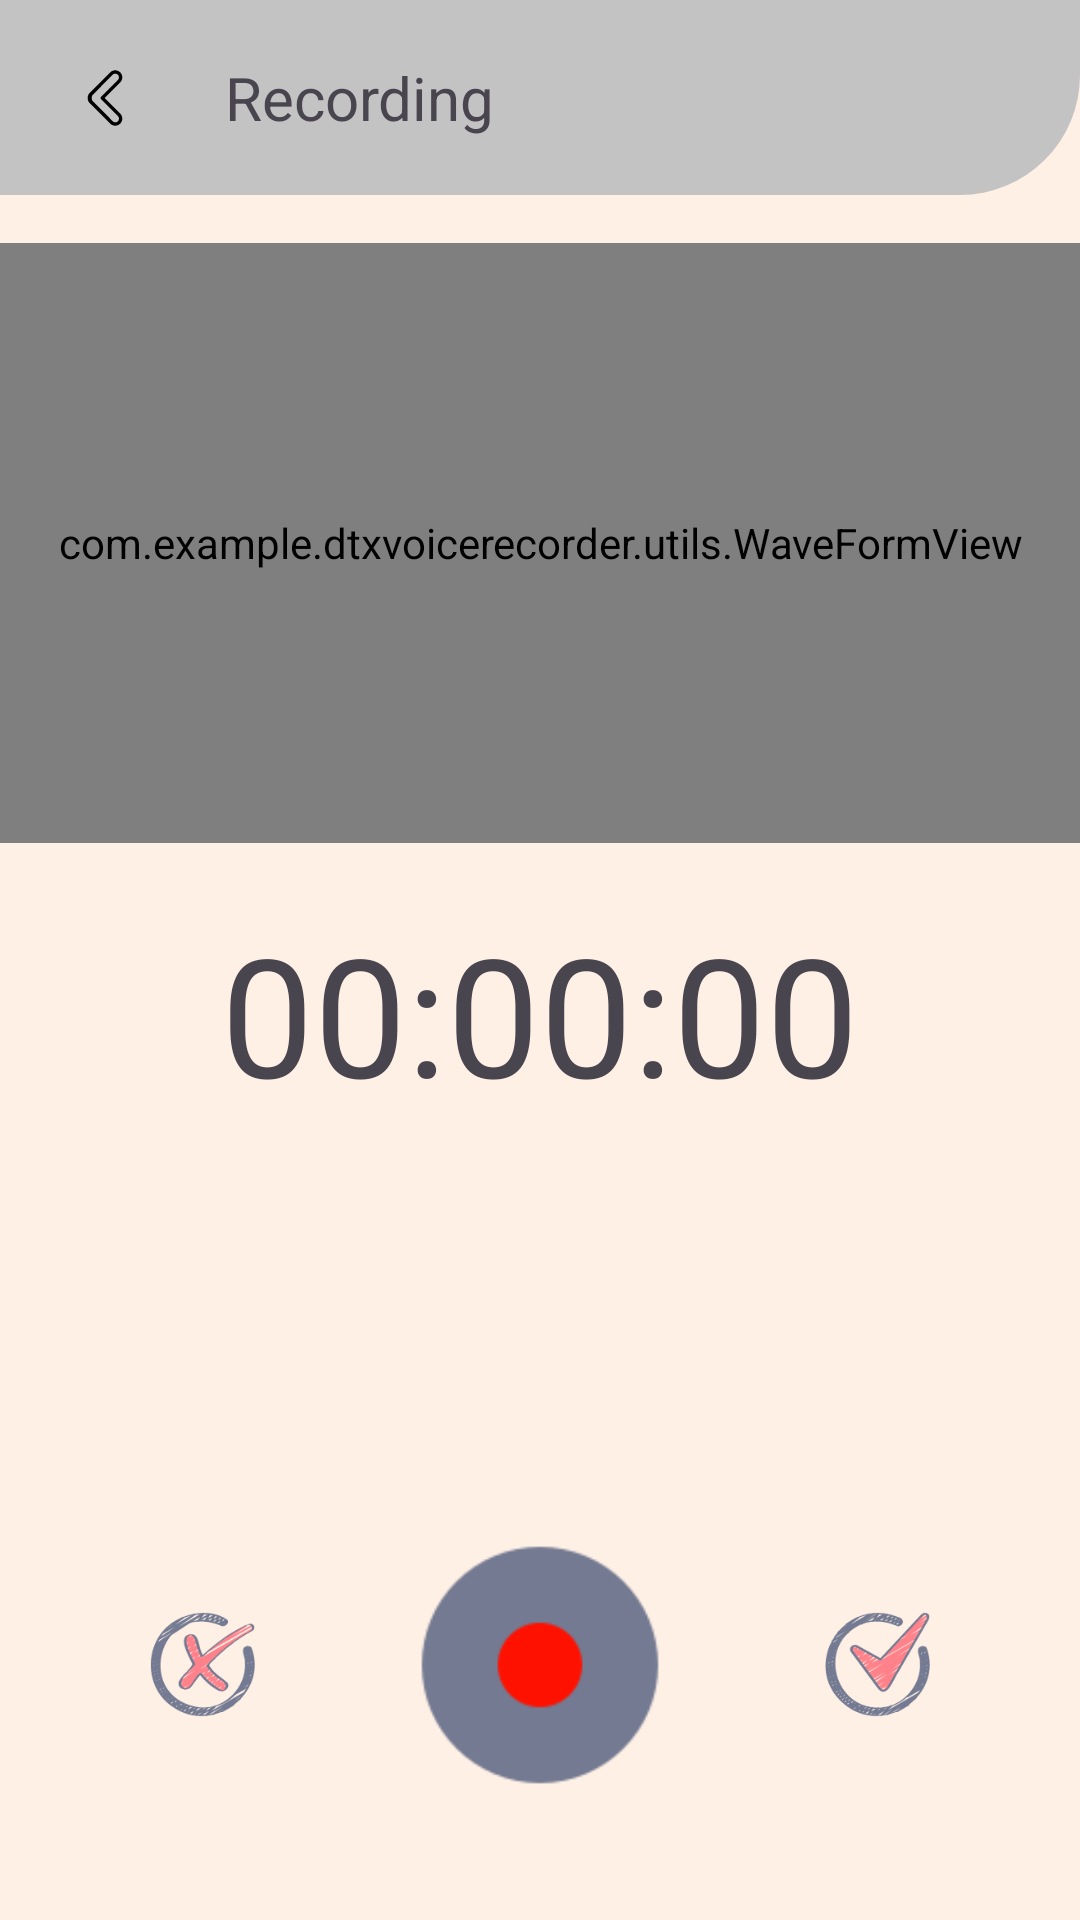

Icons on this 1080px x 1920px Android screen, each with its box as (x1, y1, x2, y2):
back: (87, 70, 123, 126)
cancel: (151, 1613, 255, 1716)
record: (421, 1546, 659, 1784)
save: (825, 1613, 930, 1716)
